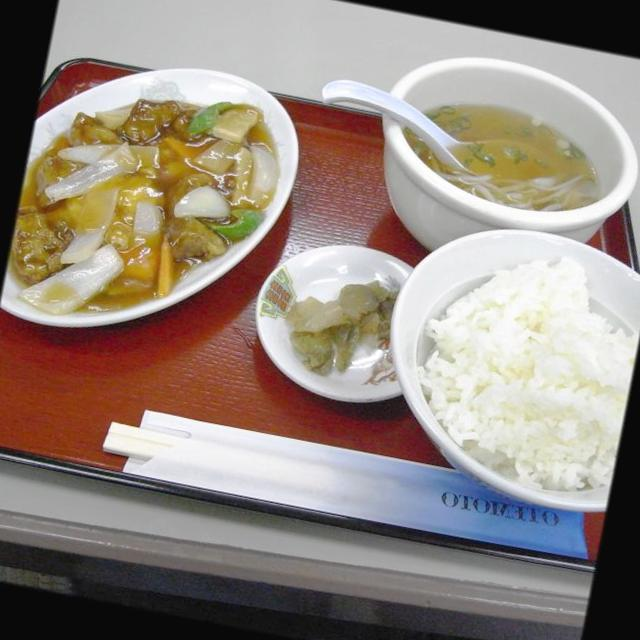Rice: (409, 218, 640, 550)
